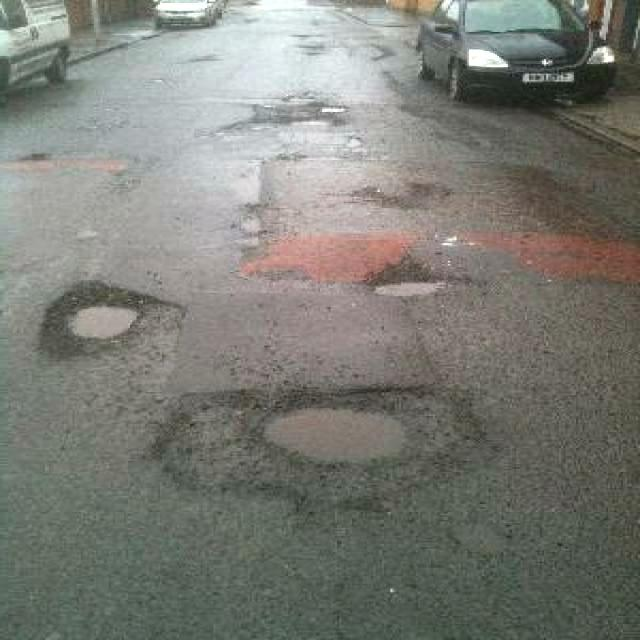Pothole: (154, 382, 501, 501), (38, 278, 164, 360), (254, 99, 352, 130), (365, 267, 454, 299)
